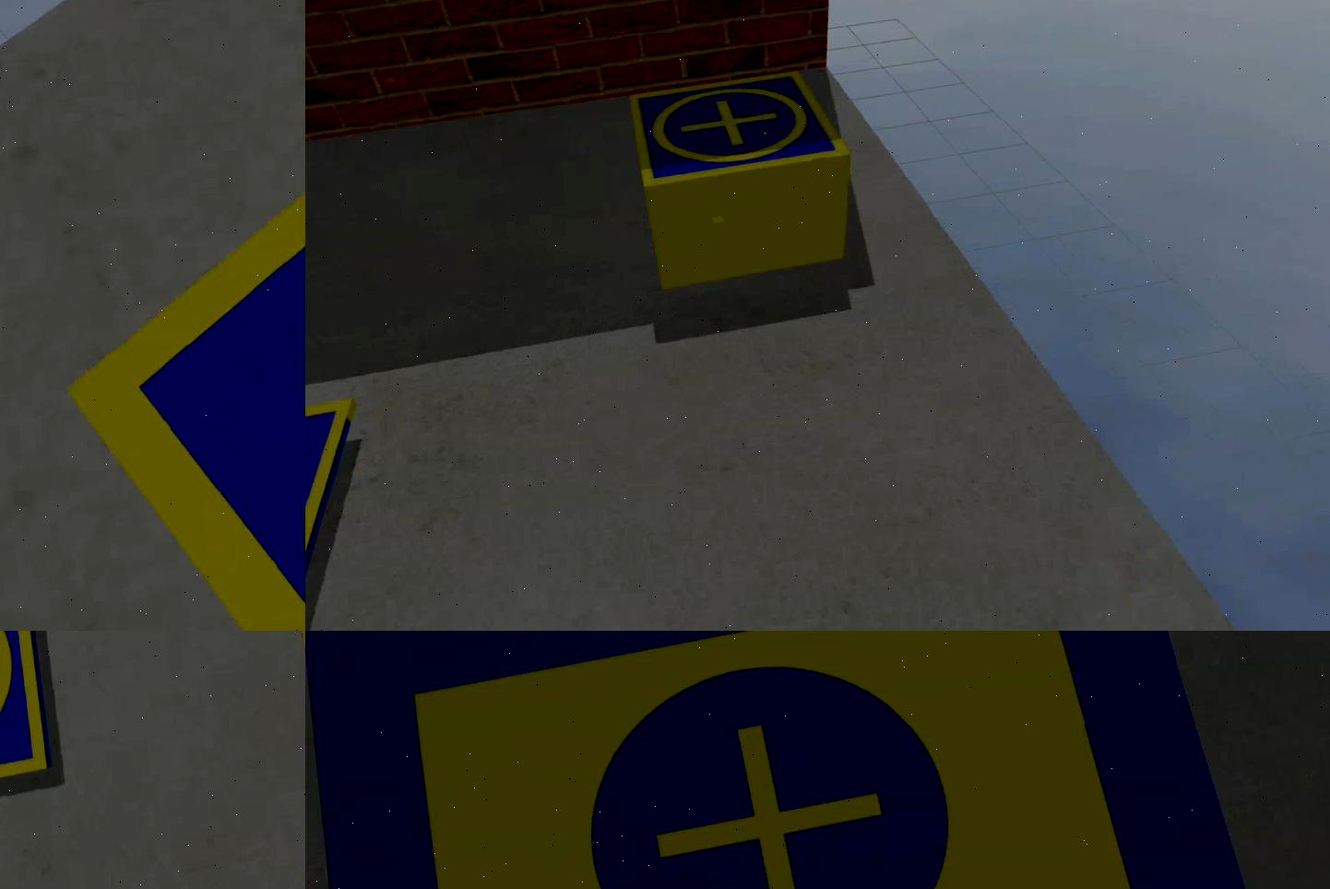large_base: (306, 631, 1301, 889)
small_base: (32, 1, 306, 631), (627, 68, 853, 195), (306, 398, 375, 631)
